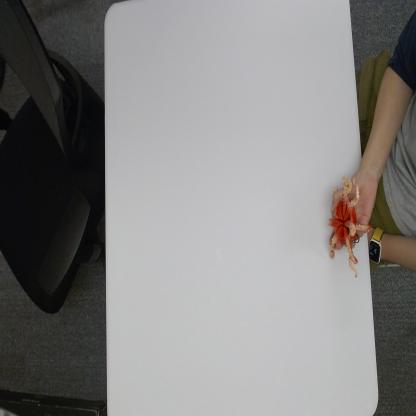Arm: (325, 173, 373, 280)
